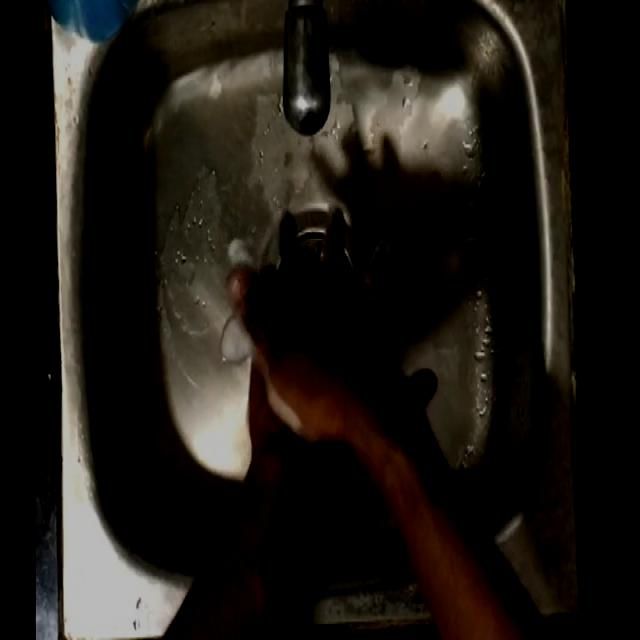step_2: (223, 188, 432, 468)
